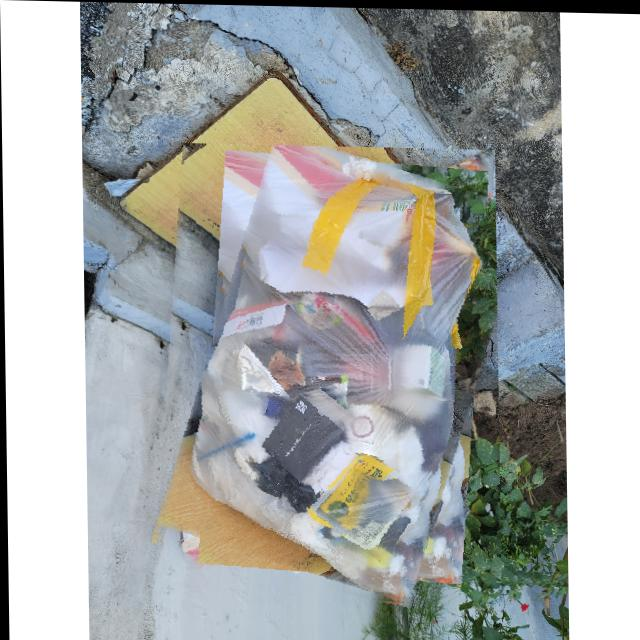other_trashbag: (154, 145, 496, 602)
